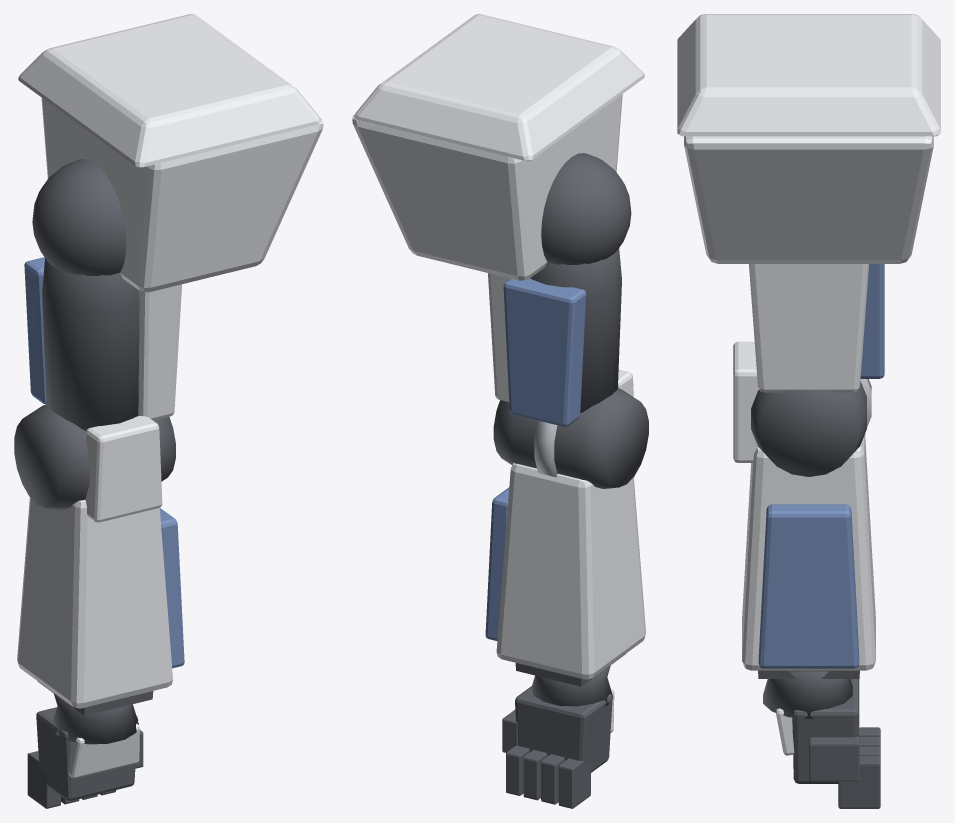
File: arm_general_r.glb
3 renders of one model, left to right at view 1: azimuth 30°, elevation 25°; view 2: azimuth 150°, elevation 25°; view 3: azimuth 270°, elevation 25°, orthographic. The views are drawn at different scales.
Parts seen in each view (by area): view 1: pauldron_top, forearm, pauldron, upper_arm, shoulder_joint, elbow, elbow_guard, upper_arm_plate, palm, wrist, upper_arm_front, forearm_outer (+3 smaller); view 2: forearm, pauldron_top, pauldron, upper_arm_front, elbow, shoulder_joint, upper_arm, palm, forearm_outer, wrist, upper_arm_plate, finger (+6 smaller); view 3: pauldron_top, pauldron, forearm_outer, upper_arm_plate, forearm, elbow, palm, wrist, elbow_guard, upper_arm_front, thumb, finger.003 (+2 smaller).
Boxes of the visible parts, x1=… form: pauldron_top: x1=18, y1=14, x2=321, y2=167; forearm: x1=17, y1=497, x2=172, y2=708; pauldron: x1=41, y1=97, x2=323, y2=292; upper_arm: x1=42, y1=258, x2=139, y2=430; shoulder_joint: x1=32, y1=159, x2=126, y2=275; elbow: x1=14, y1=404, x2=175, y2=509; elbow_guard: x1=85, y1=415, x2=162, y2=522; upper_arm_plate: x1=138, y1=284, x2=181, y2=420; palm: x1=36, y1=707, x2=138, y2=800; wrist: x1=53, y1=694, x2=138, y2=744; upper_arm_front: x1=24, y1=257, x2=46, y2=404; forearm_outer: x1=159, y1=508, x2=184, y2=668; forearm: x1=496, y1=463, x2=645, y2=679; pauldron_top: x1=354, y1=14, x2=644, y2=161; pauldron: x1=352, y1=94, x2=622, y2=280; upper_arm_front: x1=503, y1=278, x2=586, y2=426; elbow: x1=493, y1=388, x2=648, y2=488; shoulder_joint: x1=541, y1=153, x2=631, y2=264; upper_arm: x1=530, y1=248, x2=621, y2=413; palm: x1=515, y1=686, x2=612, y2=772; forearm_outer: x1=485, y1=487, x2=509, y2=640; wrist: x1=531, y1=665, x2=613, y2=706; upper_arm_plate: x1=488, y1=273, x2=510, y2=401; finger: x1=558, y1=758, x2=590, y2=808; pauldron_top: x1=677, y1=14, x2=940, y2=136; pauldron: x1=684, y1=136, x2=933, y2=263; forearm_outer: x1=758, y1=504, x2=859, y2=668; upper_arm_plate: x1=749, y1=264, x2=868, y2=392; forearm: x1=742, y1=434, x2=875, y2=670; elbow: x1=751, y1=381, x2=866, y2=476; palm: x1=792, y1=679, x2=859, y2=783; wrist: x1=763, y1=671, x2=852, y2=718; elbow_guard: x1=733, y1=341, x2=759, y2=462; upper_arm_front: x1=860, y1=264, x2=884, y2=378; thumb: x1=809, y1=736, x2=859, y2=781; finger.003: x1=838, y1=756, x2=880, y2=808.
Size of the model in its own units: 2.89 by 8.67 by 2.66.
